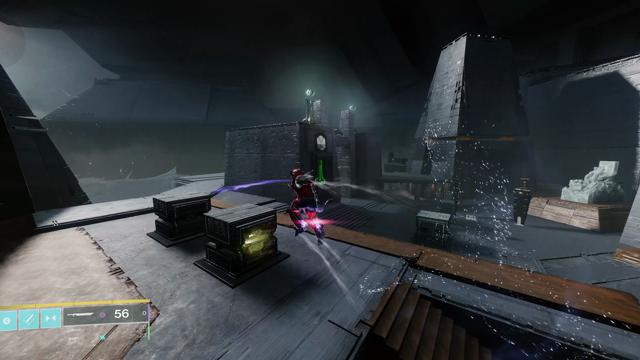commune: (317, 135, 326, 151)
kill: (431, 184, 435, 193)
